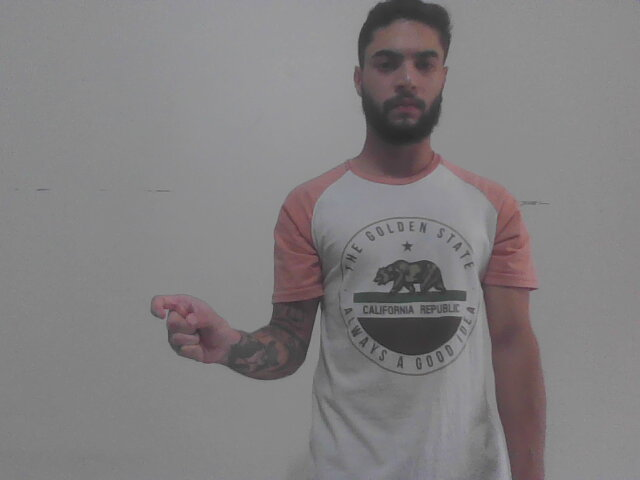x: (145, 274, 237, 379)
